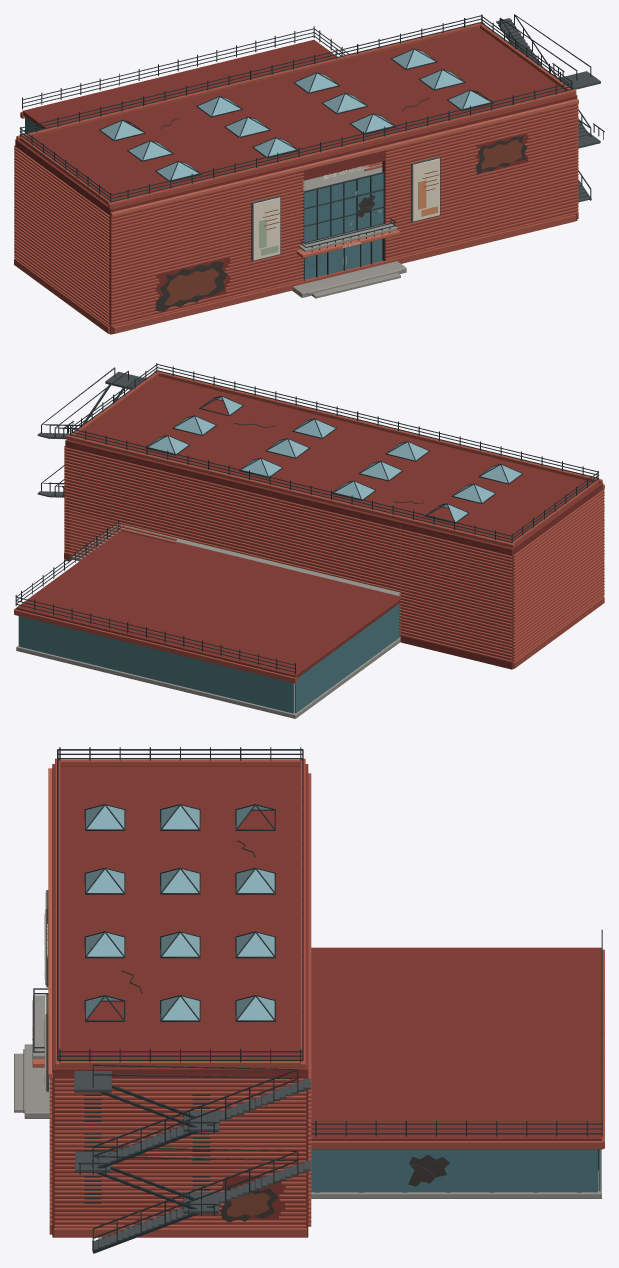
Rendered from 美术馆_建筑分件模型(1).fbx.
3 renders of one model, top to bottom at view 1: azimuth 30°, elevation 25°; view 2: azimuth 150°, elevation 25°; view 3: azimuth 270°, elevation 25°, orthographic. The views are drawn at different scales.
Visible parts, largest first — view 1: 屋面结构板, 正立面_右墙翼, 正立面_左墙翼, 湖侧展廊_平屋顶, 入口上窗_通高玻璃, 外墙勒脚, 主体_左端侧墙, 屋面女儿墙_前, 屋面女儿墙_后, 屋顶檐口, 外墙板_水平分缝_01, 外墙板_水平分缝_02 (+73 smaller); view 2: 屋面结构板, 湖侧展廊_平屋顶, 湖侧展廊_远端玻璃幕墙, 主体_后墙_中央上段, 主体_后墙_左翼, 主体_后墙_右翼上段, 湖侧展廊_西侧玻璃幕墙, 主体_左端侧墙, 屋面女儿墙_后, 屋面女儿墙_前, 湖侧展廊_地坪, 湖侧展廊_远端红色檐带 (+45 smaller); view 3: 屋面结构板, 湖侧展廊_平屋顶, 主体_右端侧墙, 湖侧展廊_东侧玻璃幕墙, 湖侧展廊_东侧红色檐带, 侧墙勒脚_右, 湖侧展廊_地坪, 外墙板_水平分缝_35, 屋面女儿墙_左, 屋面女儿墙_后, 屋面女儿墙_右, 屋顶檐口 (+38 smaller).
Part boxes in pixels (left/top/right/bottom): 屋面结构板: left=15, top=28, right=577, bottom=212; 正立面_右墙翼: left=382, top=105, right=577, bottom=260; 正立面_左墙翼: left=108, top=171, right=302, bottom=333; 湖侧展廊_平屋顶: left=22, top=39, right=337, bottom=128; 入口上窗_通高玻璃: left=304, top=173, right=383, bottom=242; 外墙勒脚: left=113, top=214, right=575, bottom=333; 主体_左端侧墙: left=15, top=143, right=115, bottom=334; 屋面女儿墙_前: left=108, top=89, right=576, bottom=207; 屋面女儿墙_后: left=16, top=22, right=484, bottom=140; 屋顶檐口: left=110, top=98, right=578, bottom=216; 外墙板_水平分缝_01: left=14, top=165, right=578, bottom=326; 外墙板_水平分缝_02: left=14, top=161, right=578, bottom=323; 屋面结构板: left=65, top=376, right=603, bottom=552; 湖侧展廊_平屋顶: left=16, top=529, right=400, bottom=677; 湖侧展廊_远端玻璃幕墙: left=19, top=616, right=294, bottom=713; 主体_后墙_中央上段: left=177, top=471, right=400, bottom=590; 主体_后墙_左翼: left=400, top=526, right=514, bottom=669; 主体_后墙_右翼上段: left=65, top=444, right=176, bottom=535; 湖侧展廊_西侧玻璃幕墙: left=295, top=603, right=400, bottom=713; 主体_左端侧墙: left=508, top=487, right=603, bottom=669; 屋面女儿墙_后: left=66, top=435, right=514, bottom=547; 屋面女儿墙_前: left=154, top=370, right=602, bottom=483; 湖侧展廊_地坪: left=16, top=637, right=400, bottom=718; 湖侧展廊_远端红色檐带: left=14, top=609, right=297, bottom=683; 屋面结构板: left=52, top=764, right=308, bottom=1073; 湖侧展廊_平屋顶: left=311, top=947, right=601, bottom=1140; 主体_右端侧墙: left=52, top=1074, right=308, bottom=1237; 湖侧展廊_东侧玻璃幕墙: left=311, top=1149, right=597, bottom=1192; 湖侧展廊_东侧红色檐带: left=311, top=1140, right=603, bottom=1149; 侧墙勒脚_右: left=54, top=1228, right=306, bottom=1237; 湖侧展廊_地坪: left=311, top=1149, right=601, bottom=1198; 外墙板_水平分缝_35: left=49, top=773, right=311, bottom=1081; 屋面女儿墙_左: left=60, top=759, right=300, bottom=766; 屋面女儿墙_后: left=300, top=758, right=305, bottom=1068; 屋面女儿墙_右: left=60, top=1061, right=300, bottom=1067; 屋顶檐口: left=48, top=768, right=53, bottom=1078.
Size of the model in its own units: 5199 by 1371 by 3924.
